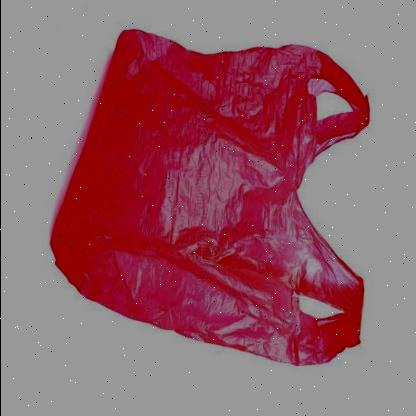Others: (51, 29, 371, 369)
